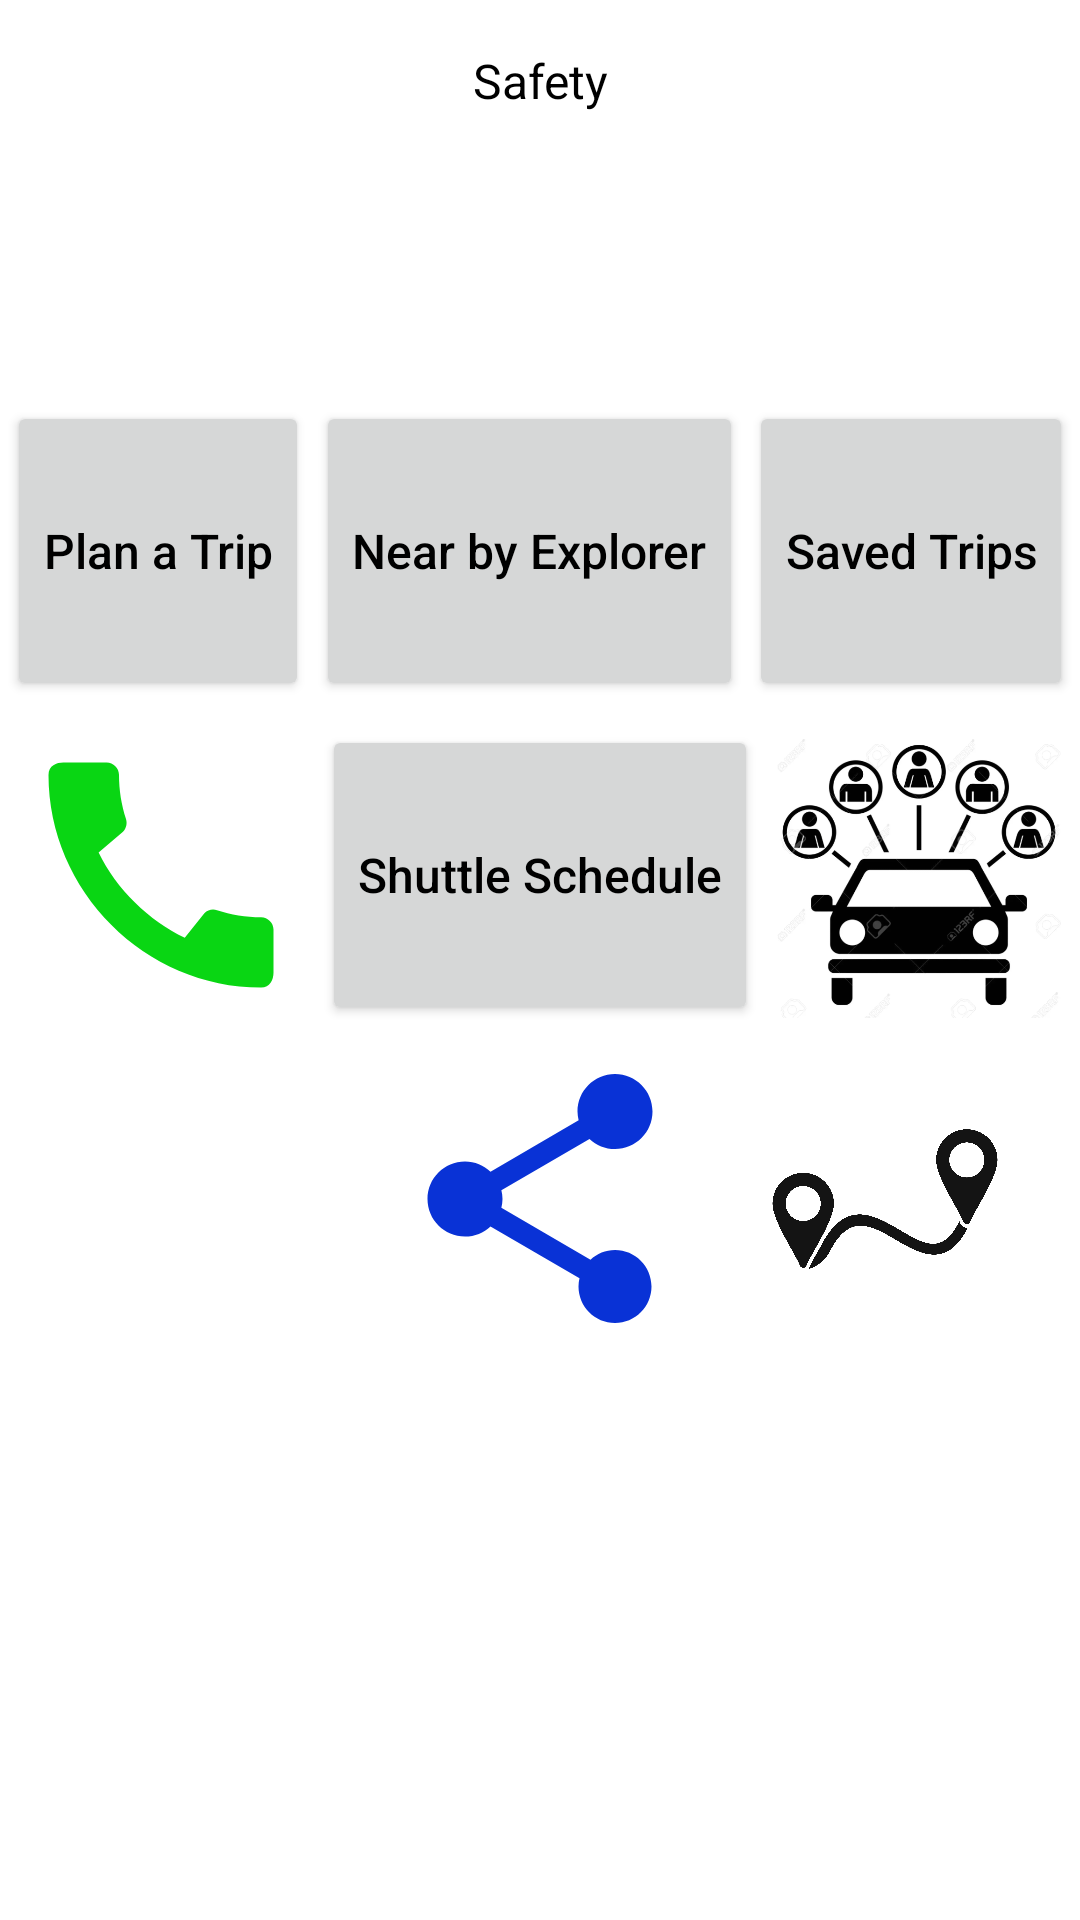

Locate icon controls on the screen. Image size 1080px x 1920px, boxes as (left=x1, top=y1, right=x2, bottom=y2).
call: (left=48, top=762, right=274, bottom=988)
car: (left=782, top=745, right=1056, bottom=1005)
routes: (left=772, top=1129, right=998, bottom=1269)
share: (left=427, top=1074, right=653, bottom=1323)
